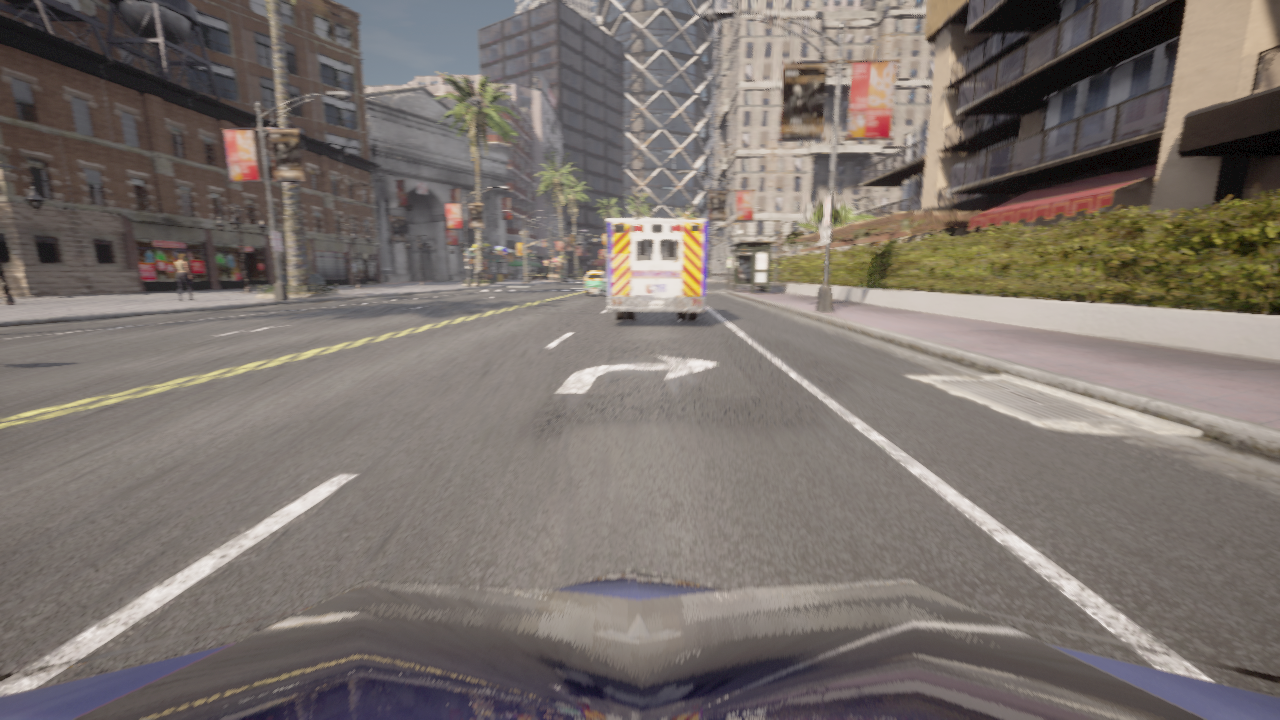cyclist: (0, 569, 1279, 719), (608, 218, 707, 320), (585, 271, 608, 296)
pedestrian: (174, 253, 196, 301)
